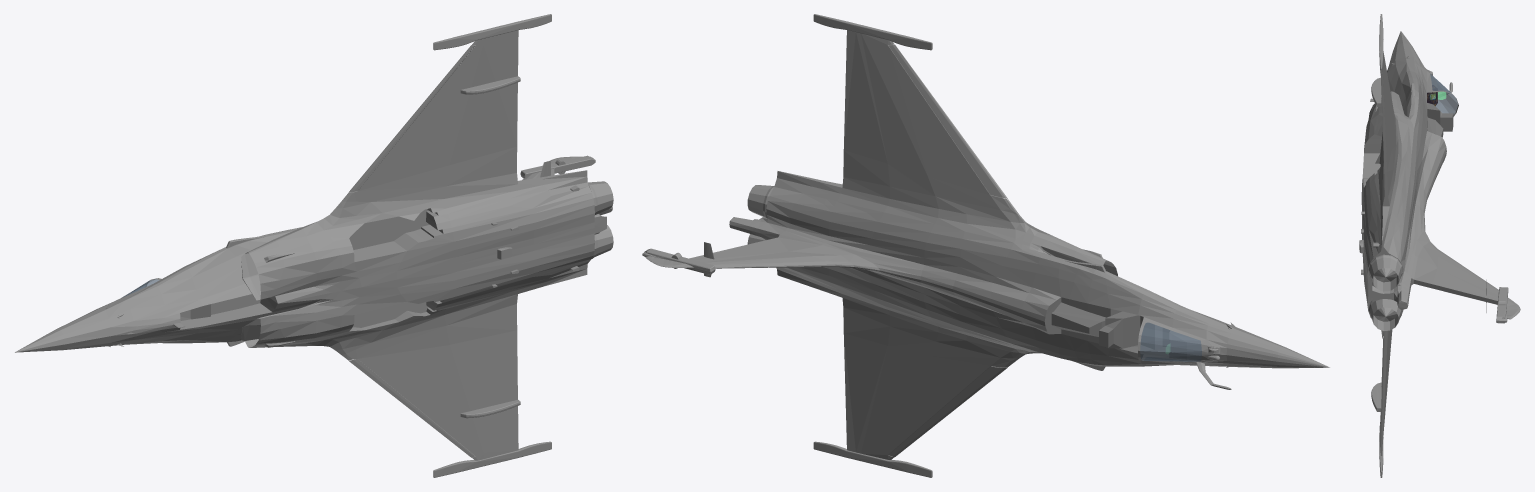
Rendered from rafale.fbx.
3 renders of one model, left to right at view 1: azimuth 30°, elevation 25°; view 2: azimuth 150°, elevation 25°; view 3: azimuth 270°, elevation 25°, orthographic. The views are drawn at different scales.
Parts seen in each view (by area): view 1: ShapeIndexedFaceSet; view 2: ShapeIndexedFaceSet, ShapeIndexedFaceSet_008, ShapeIndexedFaceSet_007; view 3: ShapeIndexedFaceSet, ShapeIndexedFaceSet_008, ShapeIndexedFaceSet_007.
Part boxes in pixels (box(x1,y1,x2,y2)): ShapeIndexedFaceSet: box(15, 14, 613, 477); ShapeIndexedFaceSet: box(642, 14, 1329, 477); ShapeIndexedFaceSet_008: box(1044, 297, 1201, 360); ShapeIndexedFaceSet_007: box(1140, 322, 1201, 361); ShapeIndexedFaceSet: box(1359, 14, 1520, 477); ShapeIndexedFaceSet_008: box(1427, 76, 1453, 137); ShapeIndexedFaceSet_007: box(1430, 74, 1458, 114).
Size of the model in its own units: 15.49 by 10.18 by 3.63.
